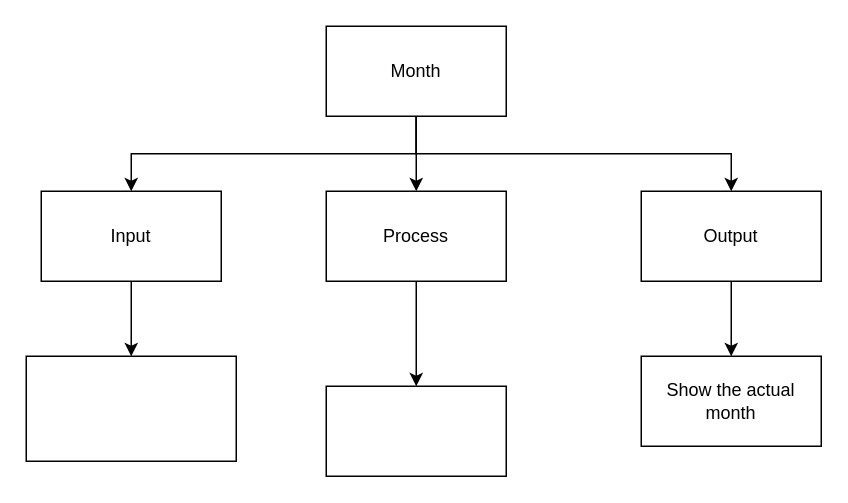
The diagram is 848 pixels wide and 503 high, and some of its shapes have lost their labels. Here are the shapes that lost their labels. From the top down, the box of each, then its label:
(25, 355, 236, 461): Get the month number
(325, 385, 506, 476): Find the month from the month number
